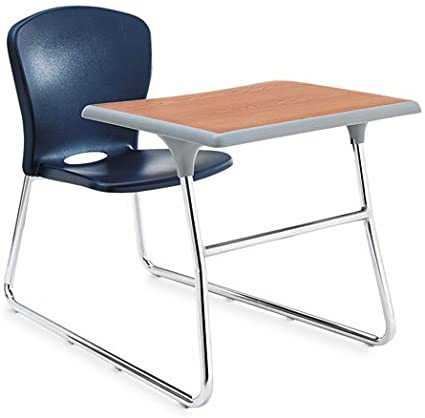desk: (1, 1, 423, 411)
